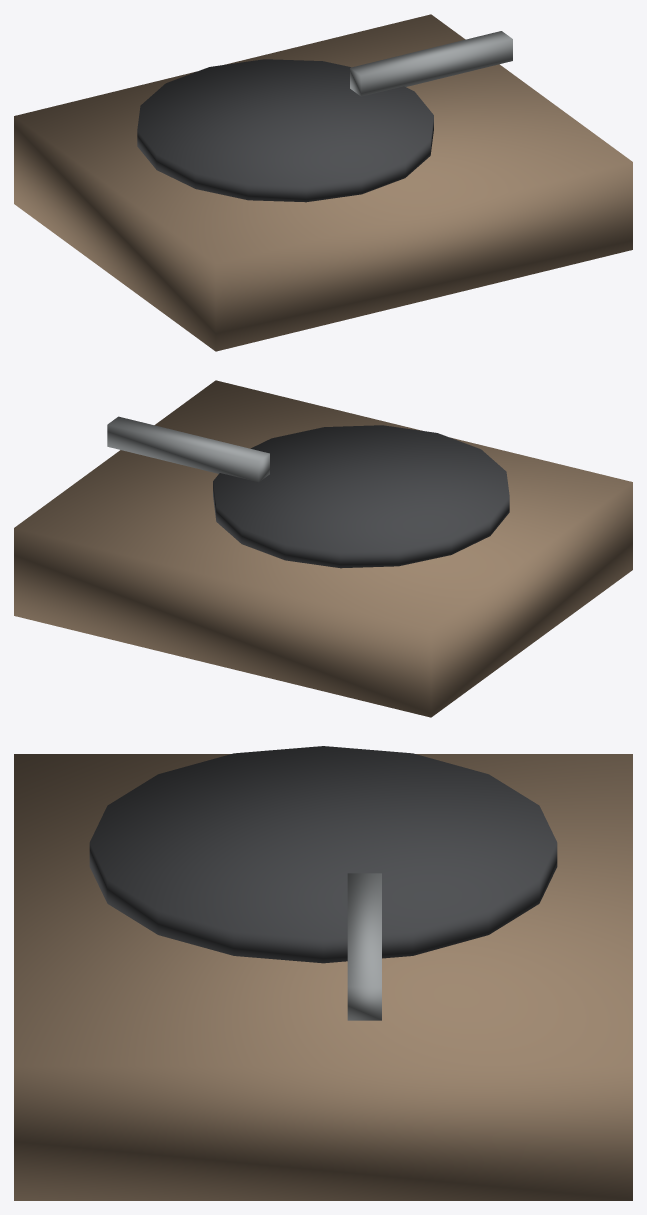
File: record_player__compact.glb
3 renders of one model, top to bottom at view 1: azimuth 30°, elevation 25°; view 2: azimuth 150°, elevation 25°; view 3: azimuth 270°, elevation 25°, orthographic. The views are drawn at different scales.
Parts seen in each view (by area): view 1: world; view 2: world; view 3: world.
Part boxes in pixels (x1,y1,x2,y2): world: (14, 14, 632, 351); world: (14, 380, 632, 717); world: (14, 746, 632, 1200).
Size of the model in its own units: 0.462 by 0.1418 by 0.387.
